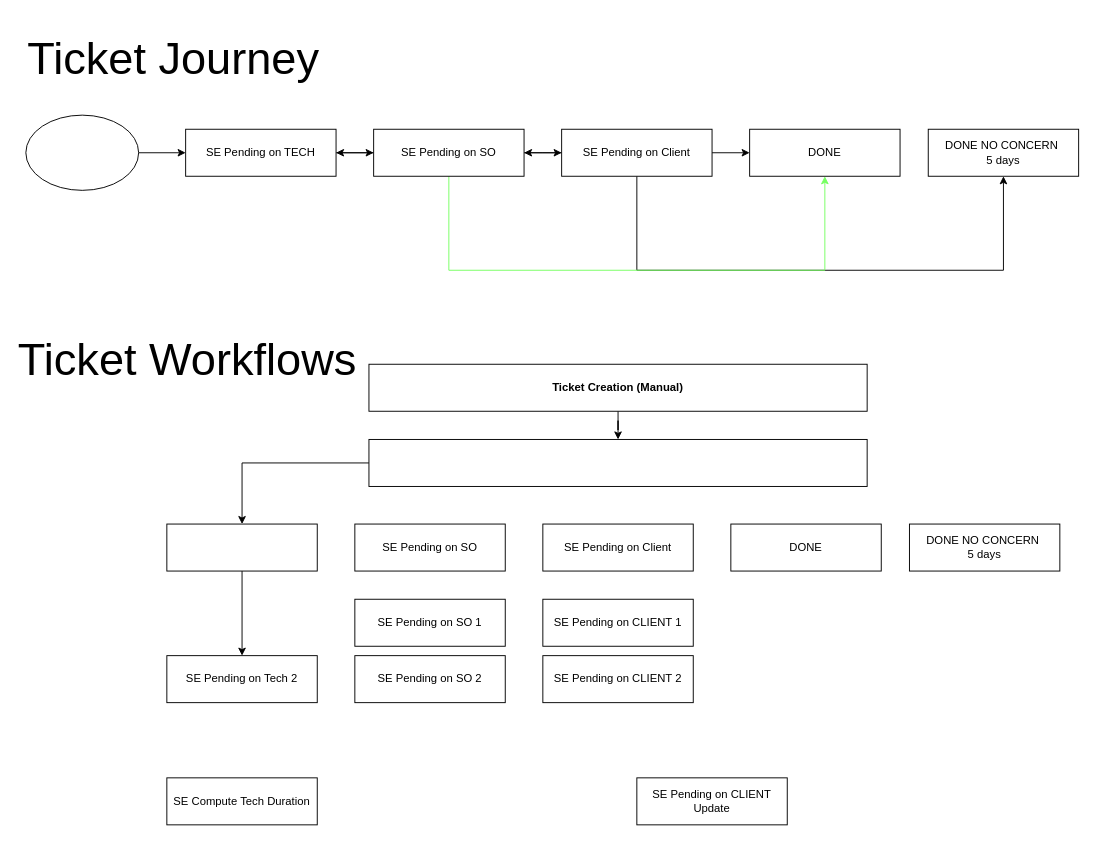
Image size: 1095x841. Some labels were removed from this diagram. The shapes that lost their labels are listed below. From the top down, each one's box as (x1, y1, x2, y2) in pixels, then its label:
(25, 114, 139, 190): Ticket Creation from SO
(368, 439, 867, 486): SE Pending On tech Initial
(166, 523, 317, 571): SE Pending on Tech 1
